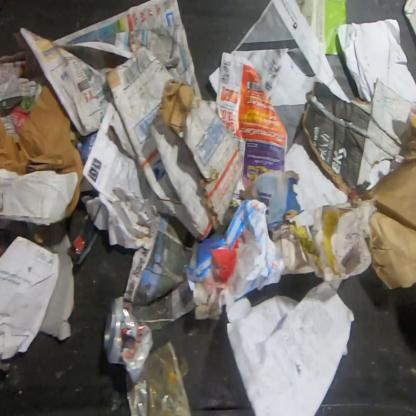cardboard: (104, 44, 246, 243), (300, 76, 415, 291), (0, 84, 86, 226)
metal: (102, 296, 155, 384)
